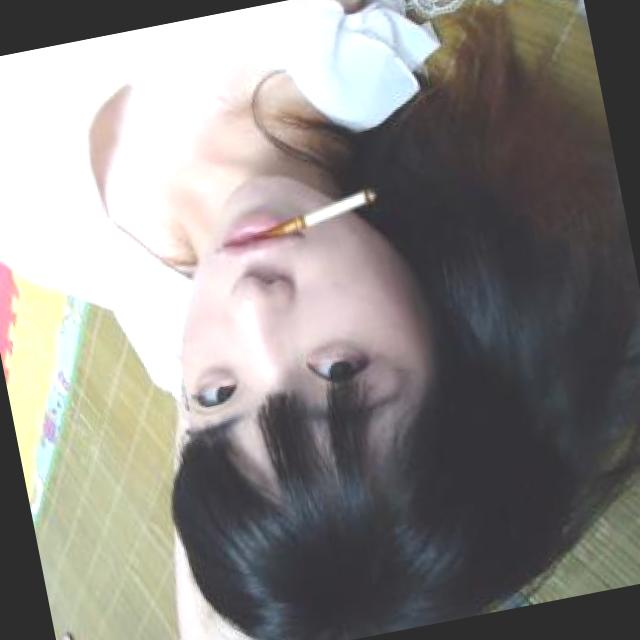smoke: (302, 184, 383, 228)
